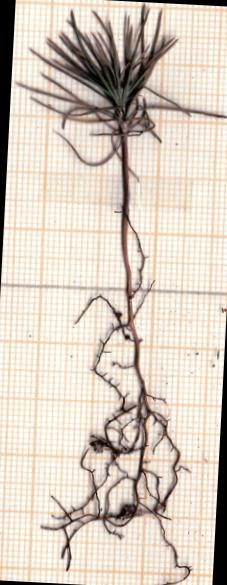flower: (17, 4, 226, 165)
root: (40, 284, 184, 570)
stem: (121, 136, 131, 300)
